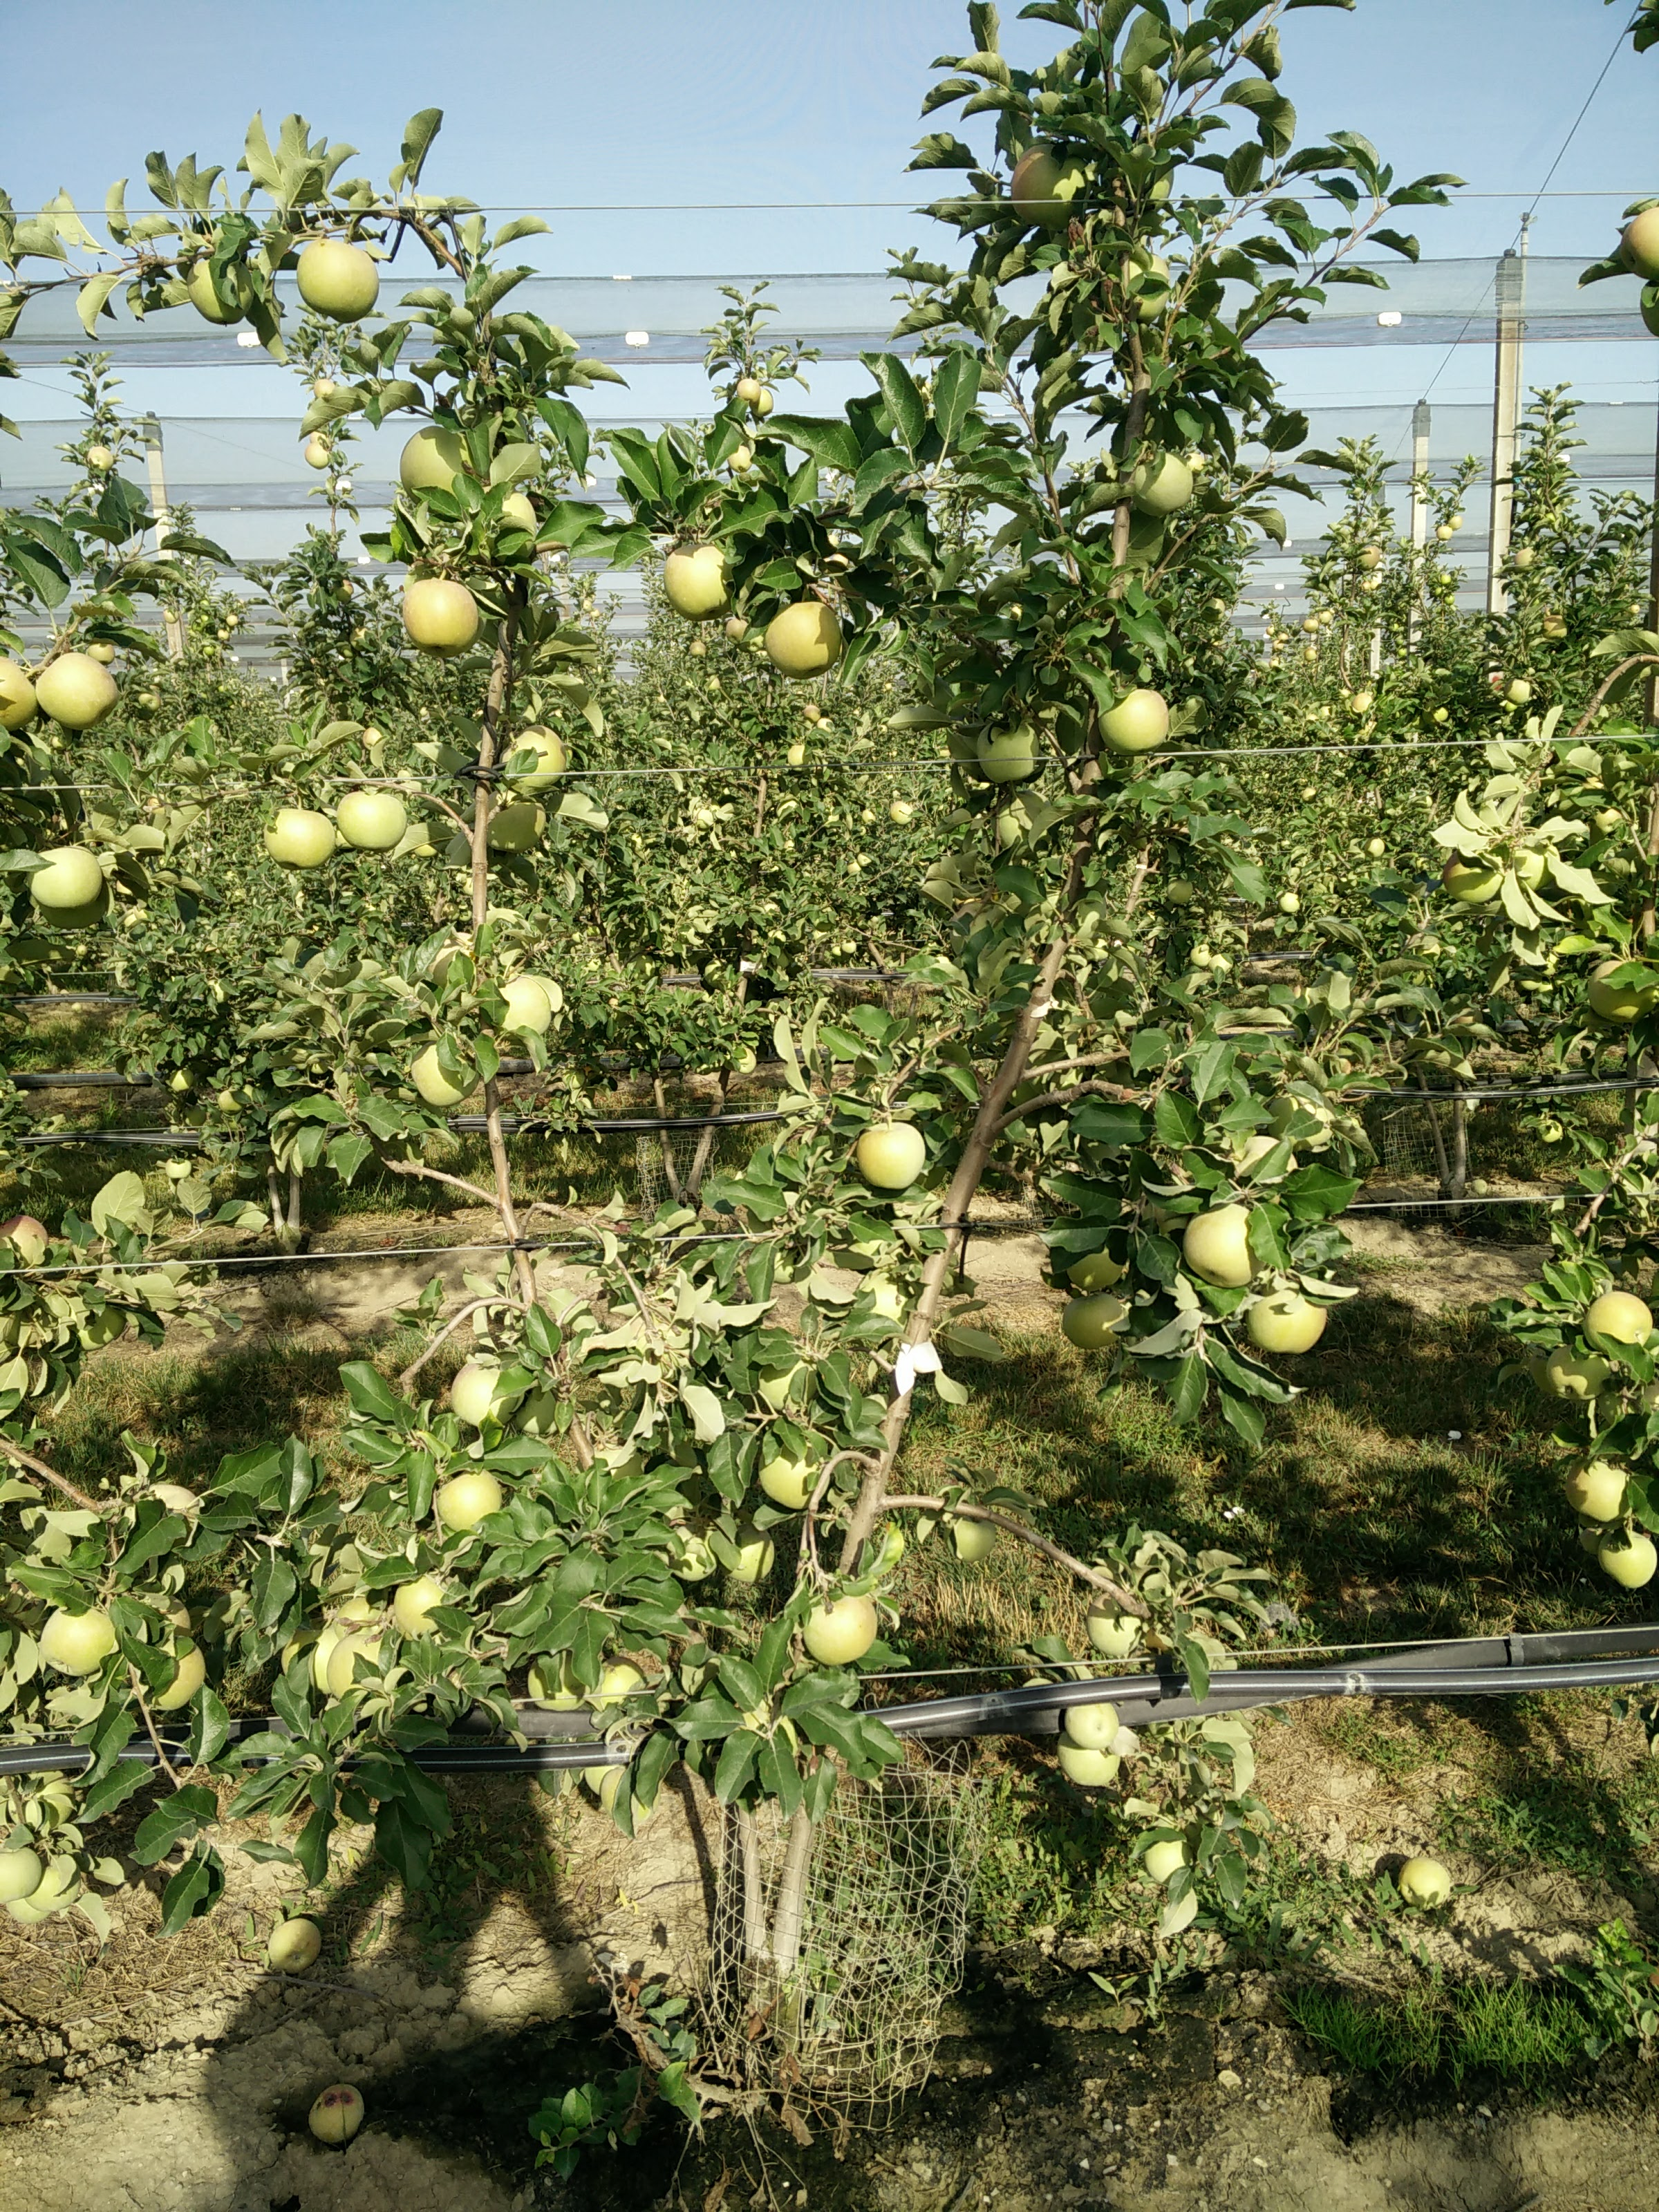apple: (1181, 1194, 1268, 1286), (396, 424, 477, 516), (1007, 139, 1090, 226), (297, 238, 382, 321), (399, 573, 483, 653), (1243, 1279, 1325, 1358), (35, 1602, 120, 1679), (325, 1629, 409, 1705), (798, 1589, 880, 1667), (35, 653, 115, 730), (763, 601, 839, 676), (401, 1042, 480, 1109), (445, 1358, 524, 1427), (1097, 682, 1172, 756), (663, 541, 734, 617), (759, 1439, 837, 1509), (854, 1122, 926, 1194), (486, 971, 555, 1044), (24, 845, 101, 910), (1578, 1290, 1655, 1356), (388, 1573, 462, 1641), (332, 789, 407, 854), (1570, 1452, 1636, 1524), (428, 1465, 503, 1530), (470, 785, 543, 850), (1127, 445, 1197, 513), (262, 807, 332, 870), (1056, 1290, 1132, 1350), (1543, 1340, 1612, 1400), (1083, 1592, 1145, 1660), (498, 725, 563, 787), (974, 715, 1038, 778), (940, 1508, 1002, 1569), (1056, 1692, 1123, 1750)
